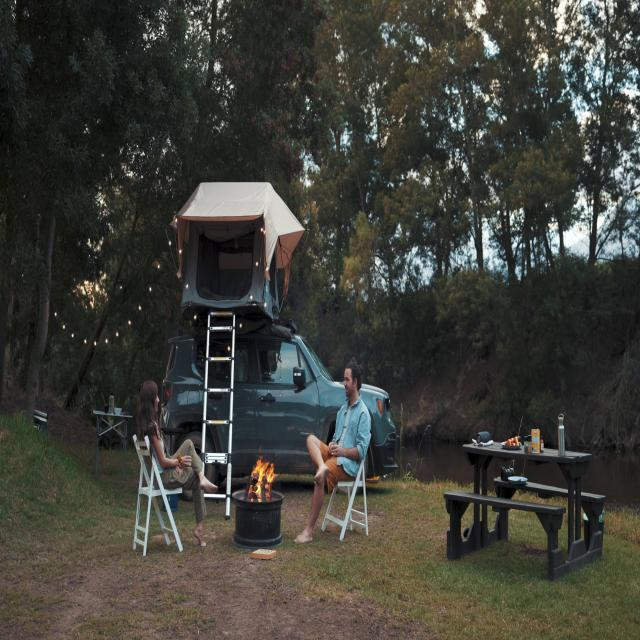Fire: (248, 446, 276, 505)
